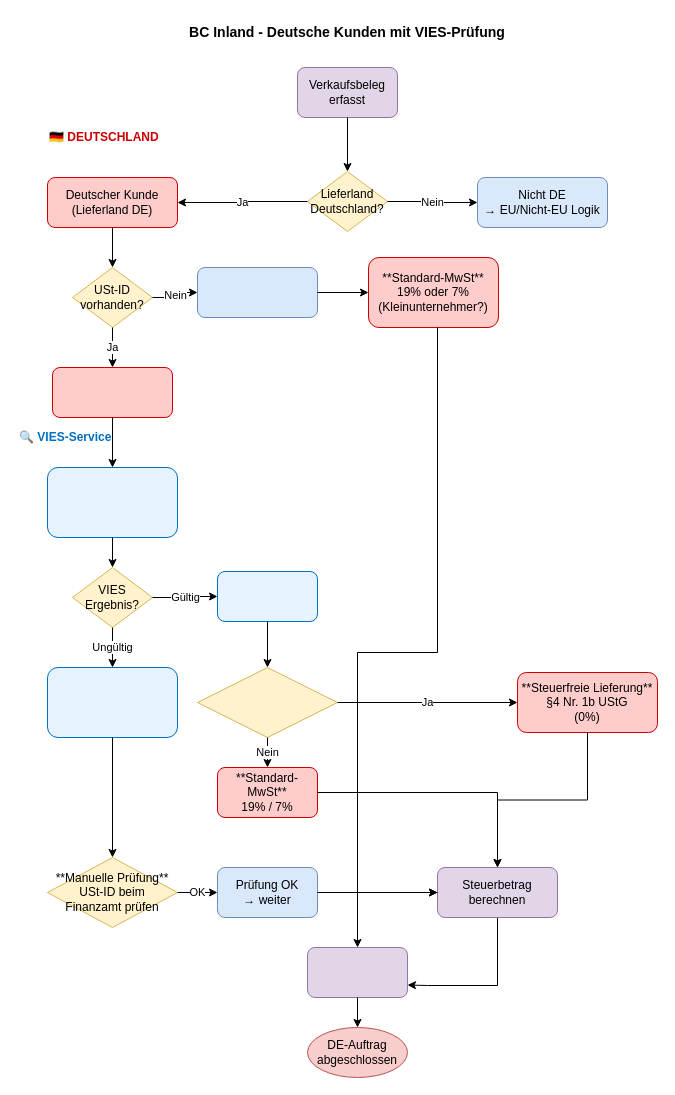
Some shapes in this 675 by 1095 pixel diagram are drawn without their labels. Each missing label, with the centre of its shape:
"**Innergemeinschaftliche** Lieferung? (Warenverkehr)" belongs at point 267,702.
"**VIES-Prüfung** über BC Standard USt-ID gültig?" belongs at point 112,502.
"Beleg verbuchen" belongs at point 357,972.
"Privatkunde (Endverbraucher)" belongs at point 257,292.
"Unternehmer (mit USt-ID)" belongs at point 112,392.
"USt-ID gültig" belongs at point 267,596.
"USt-ID ungültig oder VIES nicht erreichbar" belongs at point 112,702.
